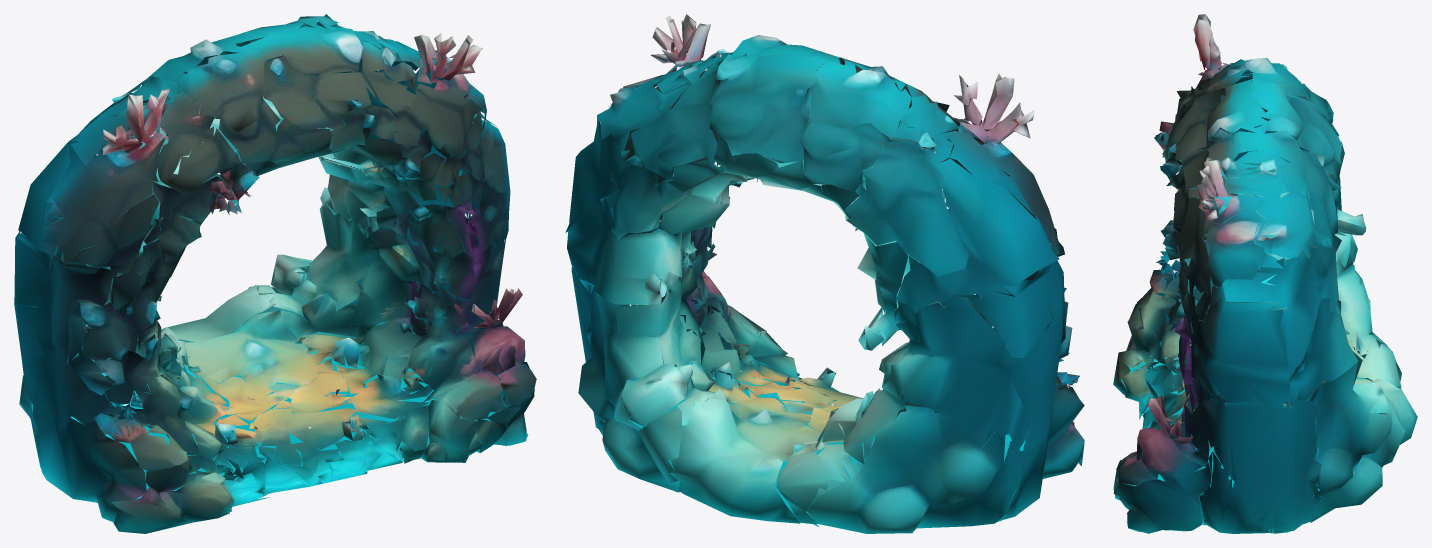
The model's file is caverna.glb.
3 views of the same model, side by side, from view 1: azimuth 30°, elevation 25°; view 2: azimuth 150°, elevation 25°; view 3: azimuth 270°, elevation 25° (orthographic). The views are drawn at different scales.
Parts seen in each view (by area): view 1: tripo_node_9c01713e-bede-4f1e-9905-f3e2e5751226; view 2: tripo_node_9c01713e-bede-4f1e-9905-f3e2e5751226; view 3: tripo_node_9c01713e-bede-4f1e-9905-f3e2e5751226.
Part boxes in pixels (x1=…): tripo_node_9c01713e-bede-4f1e-9905-f3e2e5751226: x1=14, y1=14, x2=536, y2=533; tripo_node_9c01713e-bede-4f1e-9905-f3e2e5751226: x1=565, y1=14, x2=1084, y2=533; tripo_node_9c01713e-bede-4f1e-9905-f3e2e5751226: x1=1113, y1=14, x2=1417, y2=533.
Size of the model in its own units: 0.9796 by 0.8258 by 0.6258.
1 material, 1 textured.
